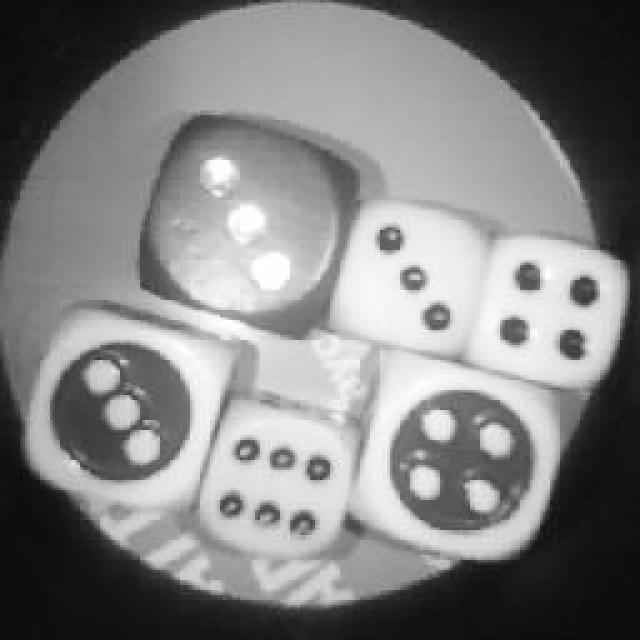dice_3: (148, 110, 350, 338), (27, 310, 225, 512), (328, 170, 498, 368)
dice_4: (363, 355, 555, 557), (468, 230, 632, 385)
dice_6: (212, 408, 358, 550)
